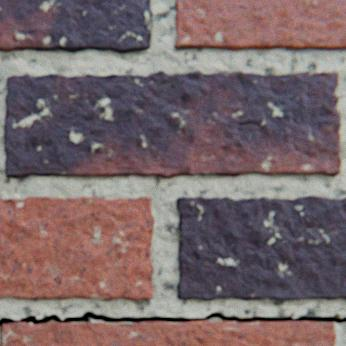brick: (4, 72, 339, 178), (175, 196, 345, 300), (0, 197, 153, 300), (173, 0, 345, 52), (0, 0, 152, 54), (0, 321, 334, 345)
crack: (0, 310, 345, 344)
